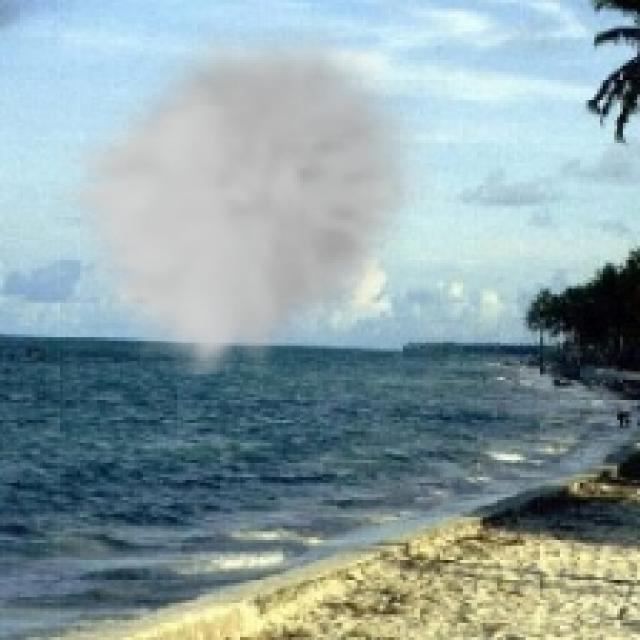Smoke: (54, 26, 437, 374)
